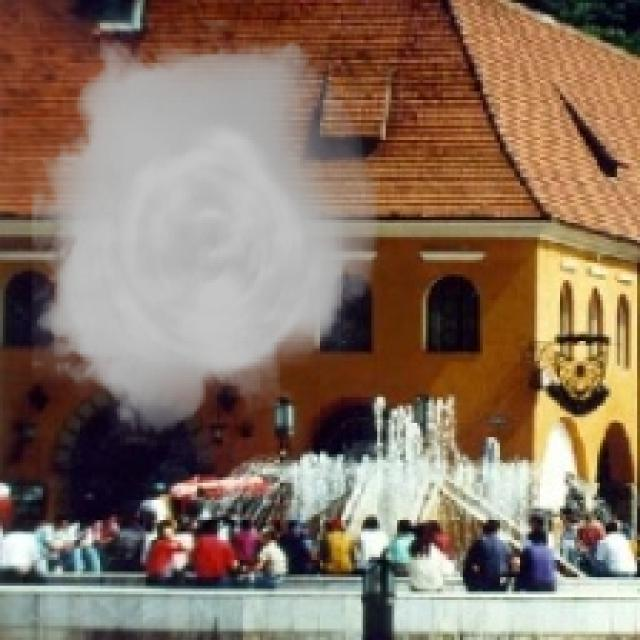smoke: (31, 20, 380, 446)
